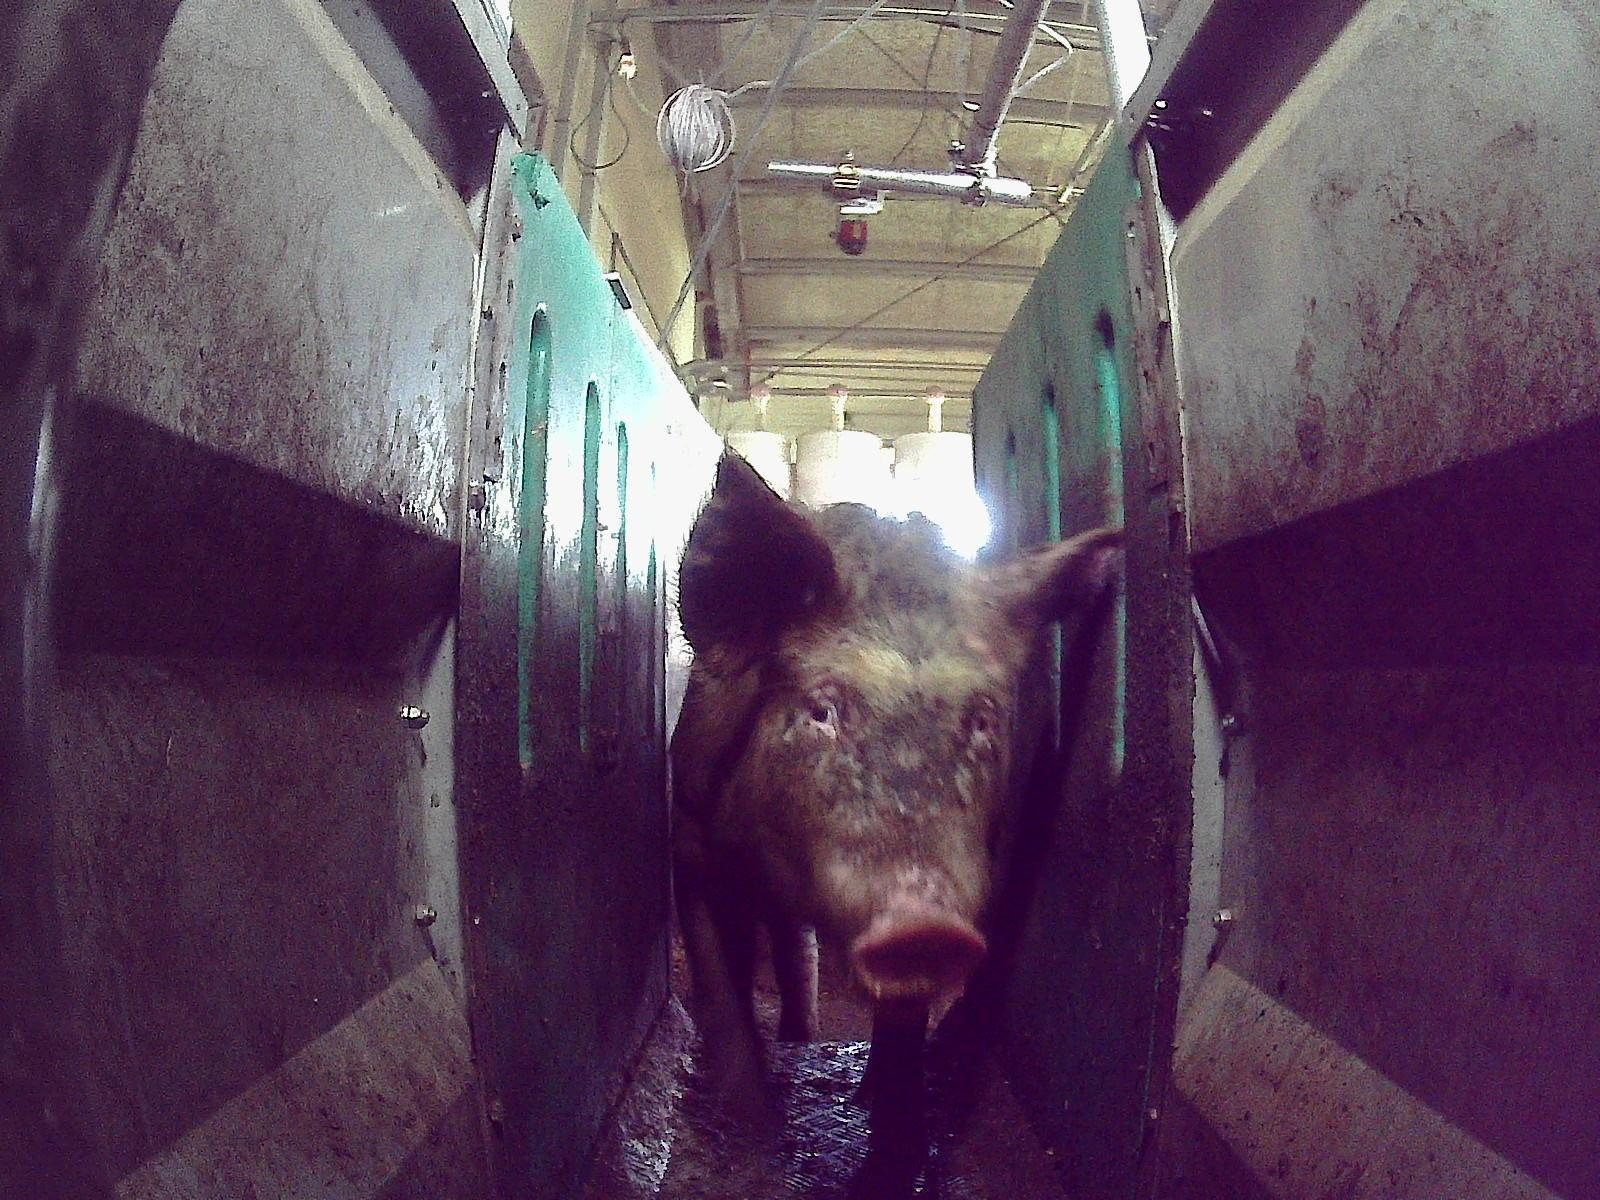Face: (763, 596, 1021, 999)
